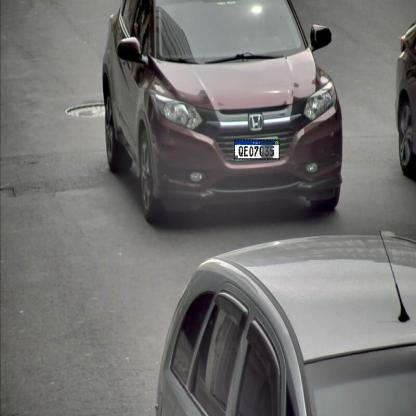PlacaM: (234, 140, 280, 160)
